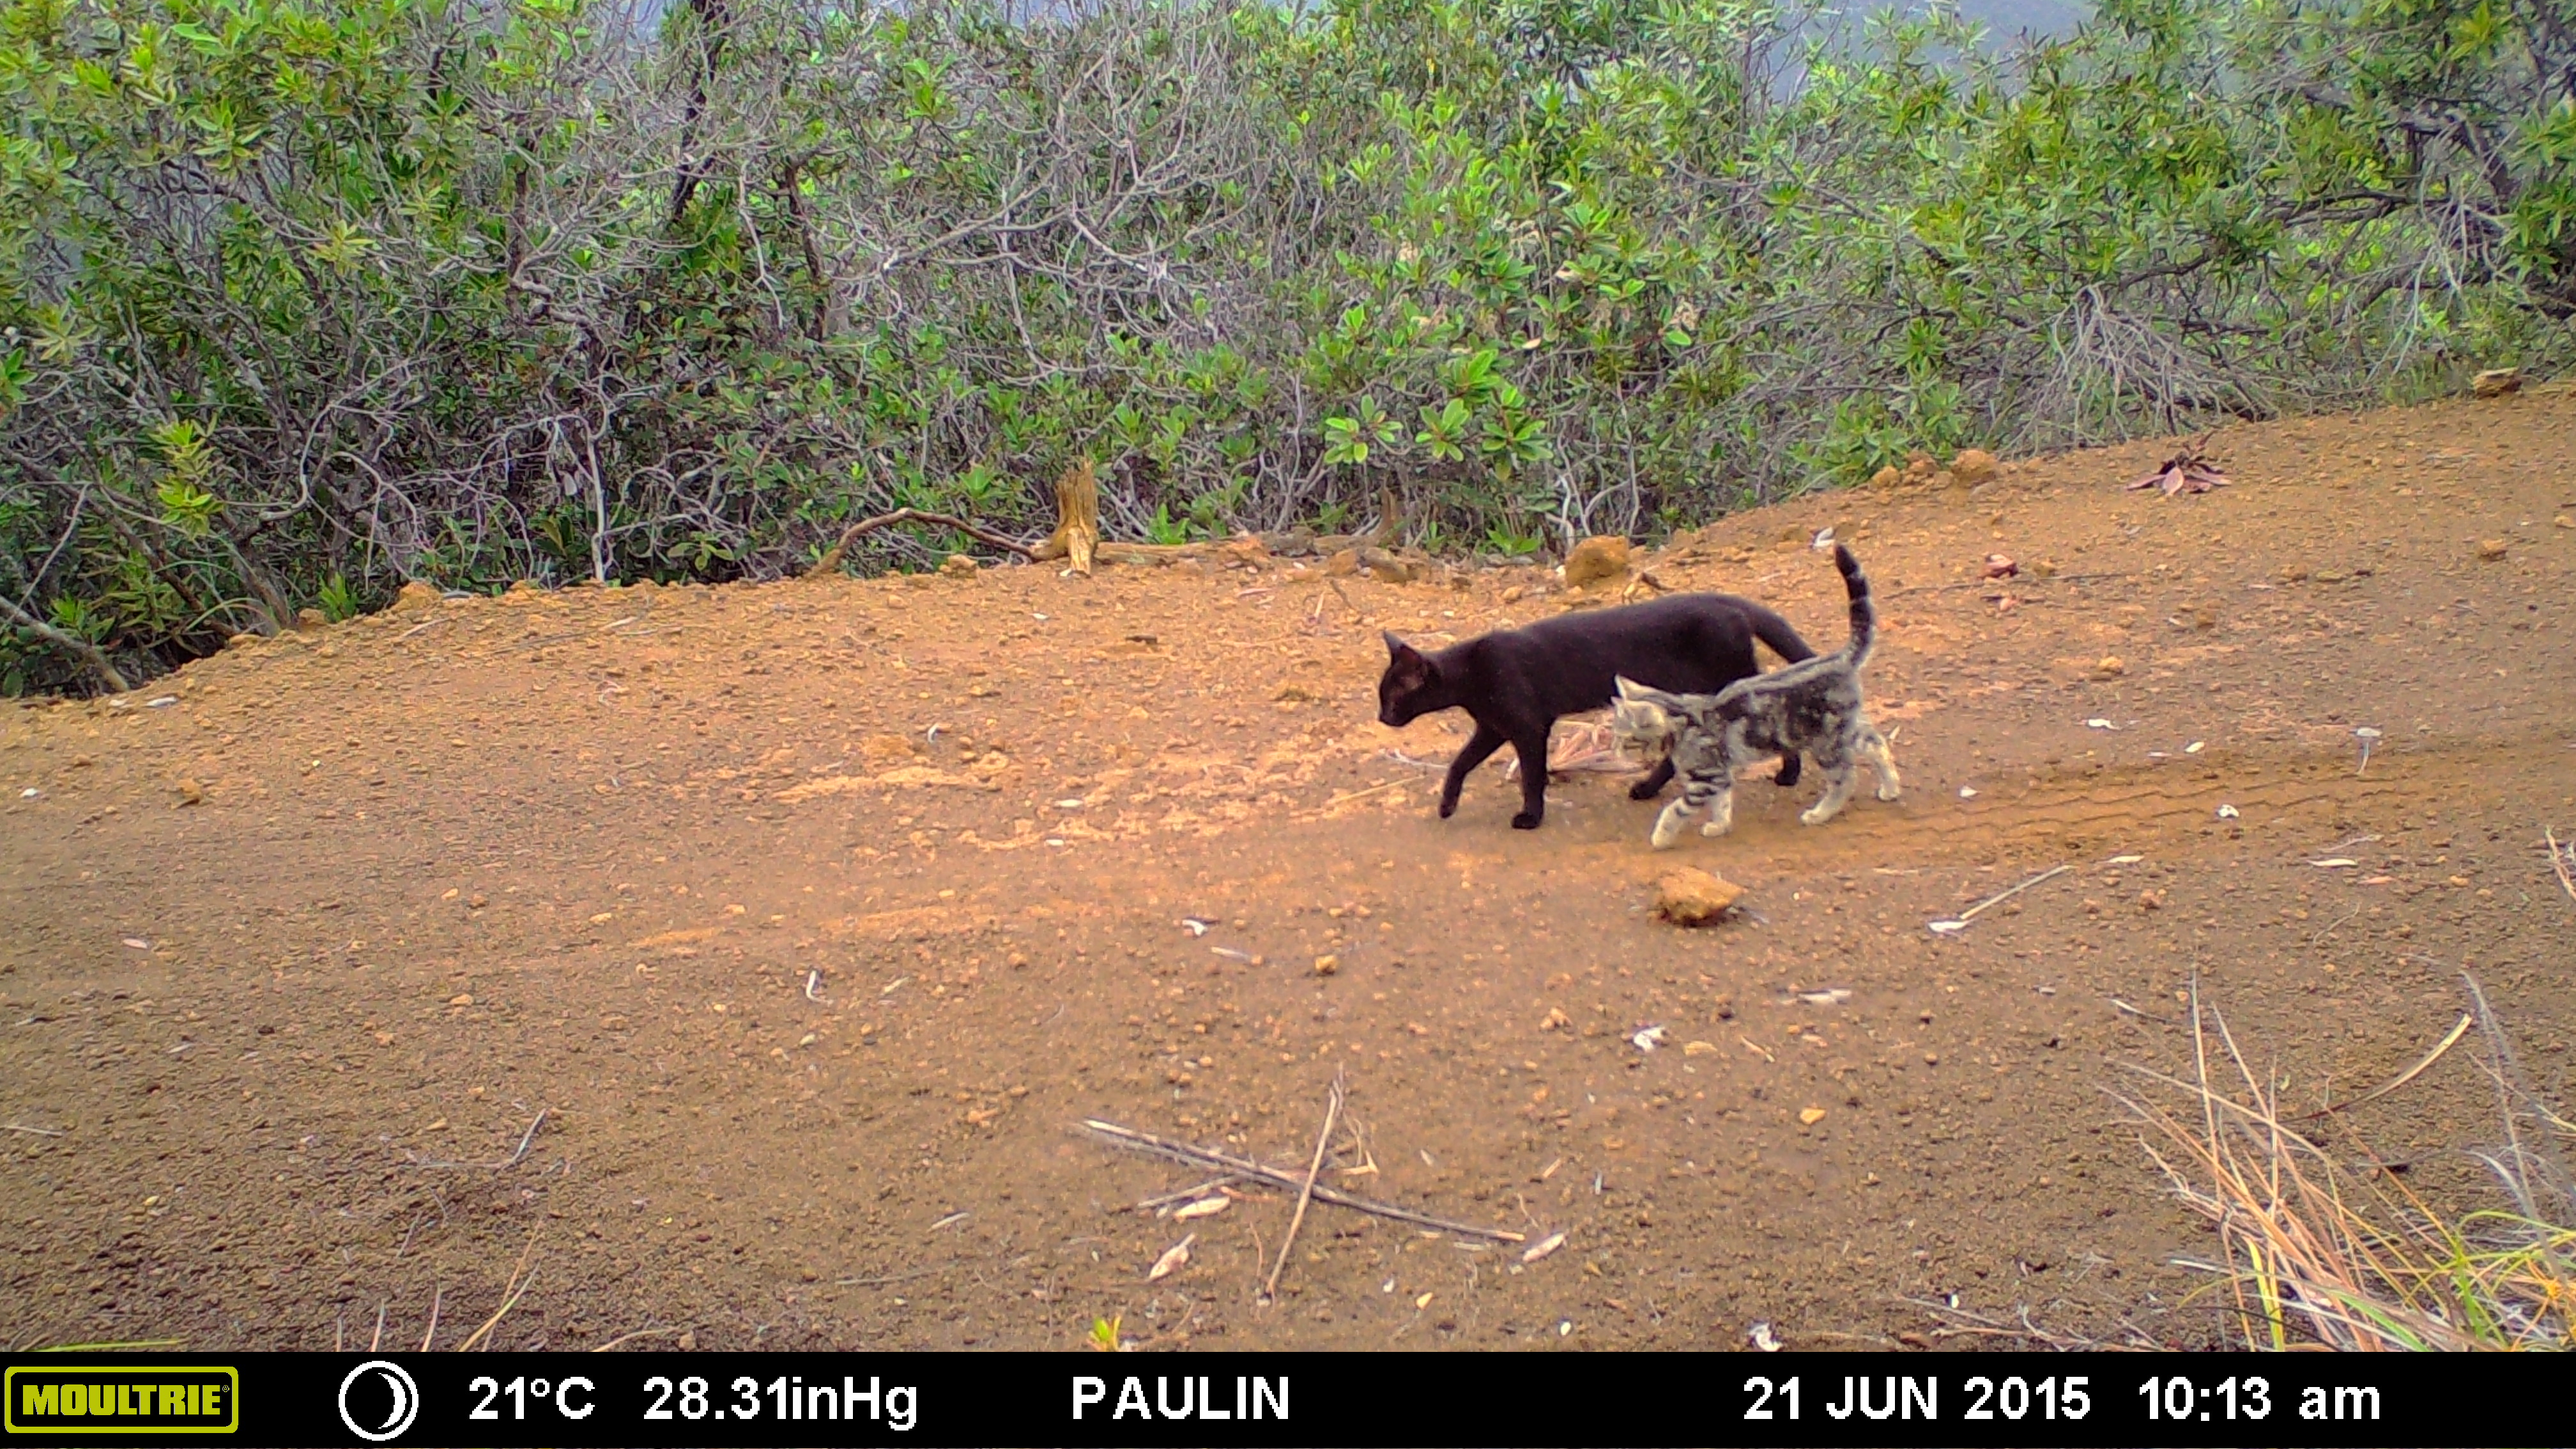cat: (1362, 586, 1859, 823), (1606, 538, 1891, 867)
